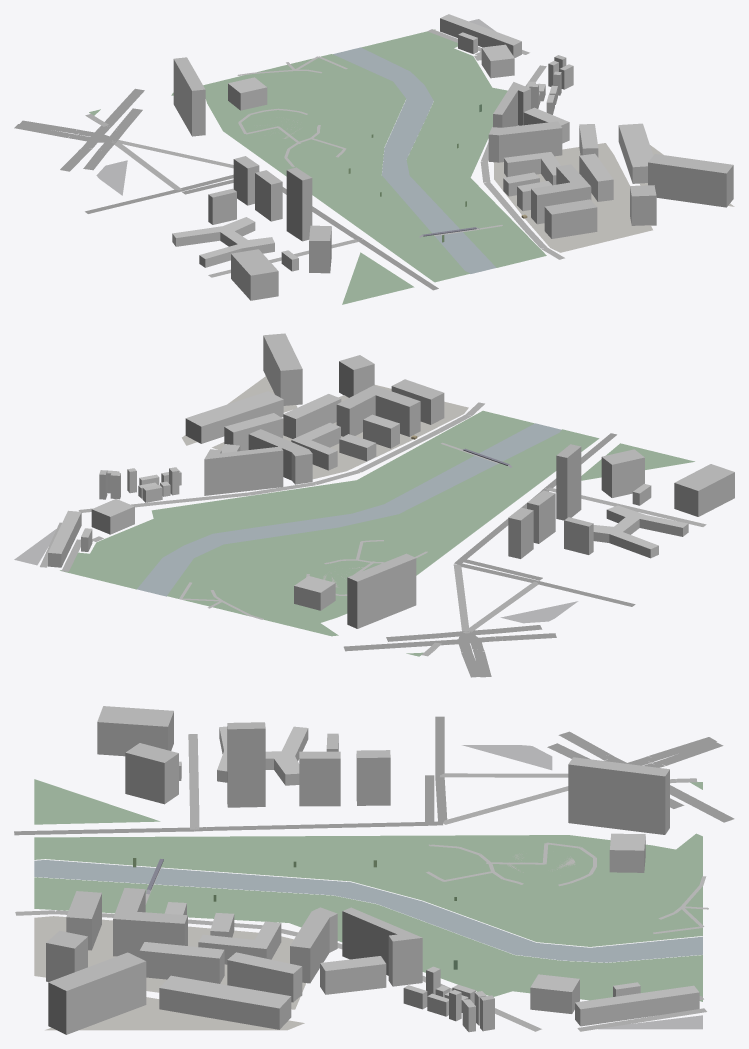
3 renders of one model, top to bottom at view 1: azimuth 30°, elevation 25°; view 2: azimuth 150°, elevation 25°; view 3: azimuth 270°, elevation 25°, orthographic. The views are drawn at different scales.
Bounding box in the file's own units: 558 × 66.52 × 539.
